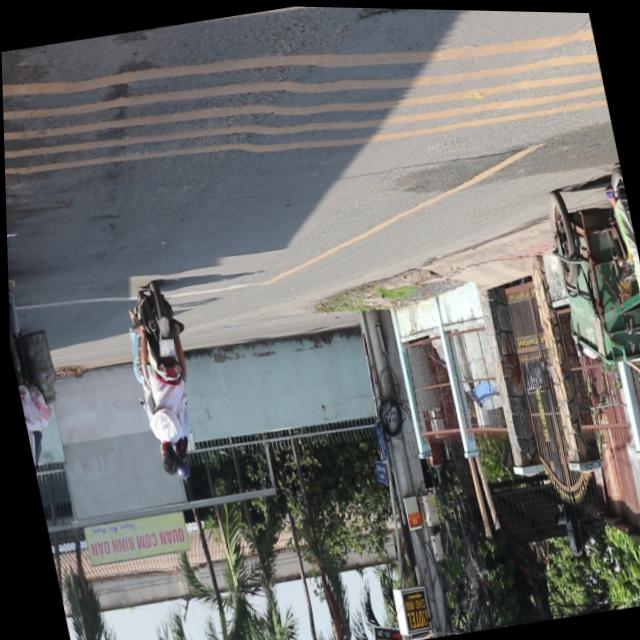helmet: (171, 450, 192, 481)
licenseplate: (116, 280, 213, 487), (6, 273, 60, 517)
motorcyclist: (155, 441, 179, 478)
nohelmet: (156, 337, 174, 356)
